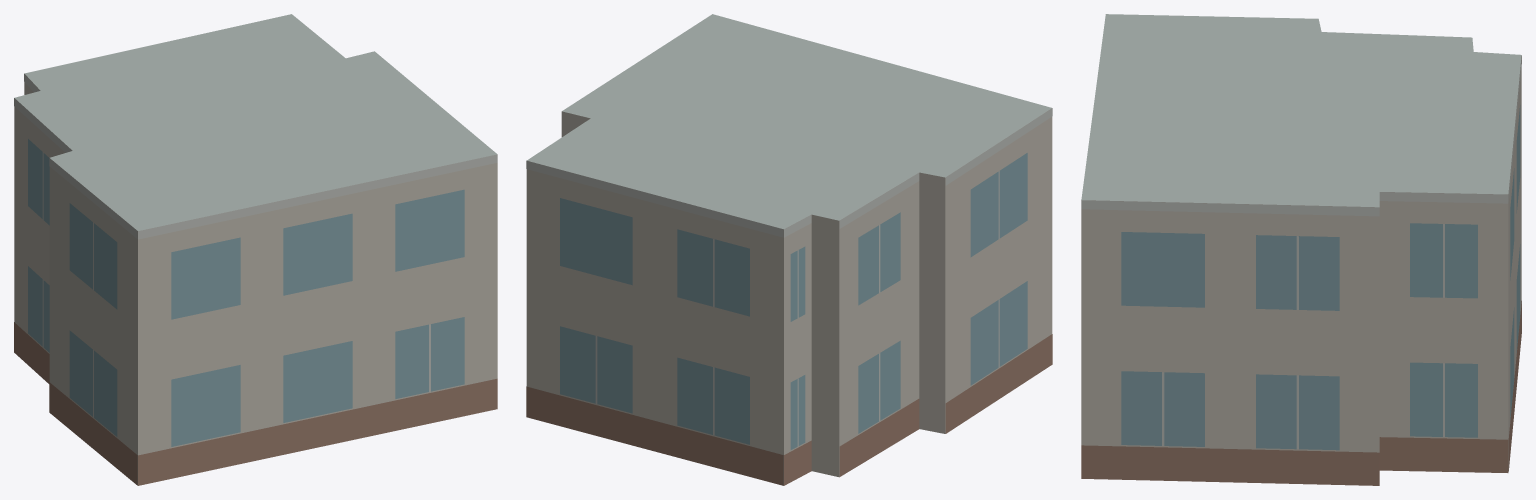
The model's file is survey-upis-32505467.glb.
3 views of the same model, side by side, from view 1: azimuth 30°, elevation 25°; view 2: azimuth 150°, elevation 25°; view 3: azimuth 270°, elevation 25° (orthographic). The views are drawn at different scales.
Parts seen in each view (by area): view 1: survey-upis-32505467.tmp; view 2: survey-upis-32505467.tmp; view 3: survey-upis-32505467.tmp.
Part boxes in pixels (x1=…): survey-upis-32505467.tmp: x1=14, y1=14, x2=497, y2=485; survey-upis-32505467.tmp: x1=526, y1=14, x2=1052, y2=485; survey-upis-32505467.tmp: x1=1081, y1=14, x2=1521, y2=485.
Bounding box in the file's own units: 11.02 × 7.4 × 10.61.
